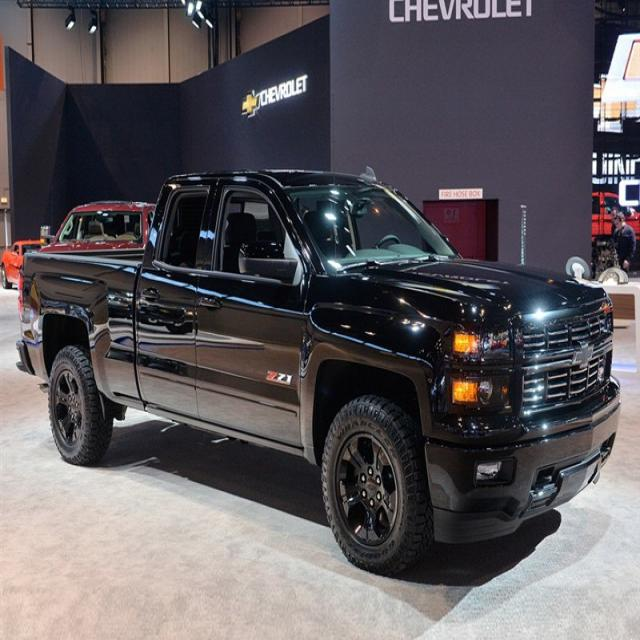back_right_side_light: (12, 268, 34, 330)
door: (138, 184, 215, 423)
front_bumper: (422, 370, 634, 556)
front_glass: (285, 180, 463, 276)
front_right_side_door: (193, 173, 310, 456)
front_right_side_light: (431, 299, 521, 444)
front_right_side_mirror: (237, 217, 311, 297)
wheel: (314, 386, 428, 584), (46, 341, 114, 469)
